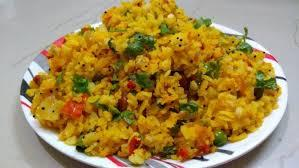poha: (29, 2, 284, 160)
